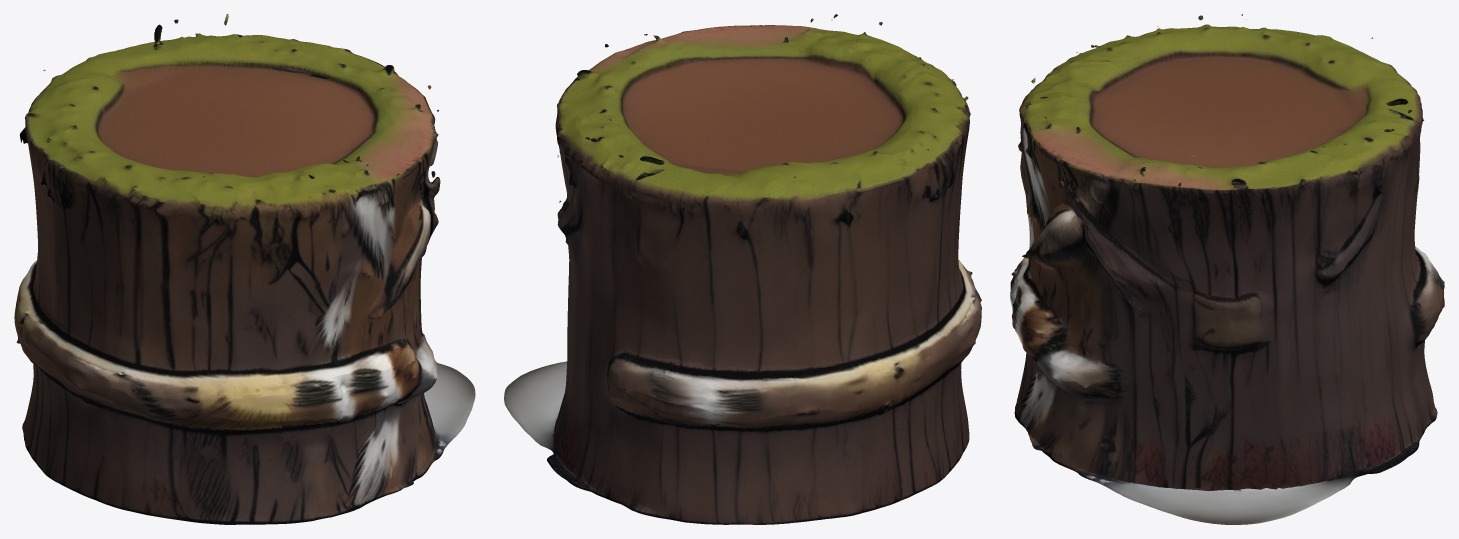
File: catalog-material-3.glb
3 views of the same model, side by side, from view 1: azimuth 30°, elevation 25°; view 2: azimuth 150°, elevation 25°; view 3: azimuth 270°, elevation 25° (orthographic). The views are drawn at different scales.
Parts seen in each view (by area): view 1: tmpxdy7dv3r.ply; view 2: tmpxdy7dv3r.ply; view 3: tmpxdy7dv3r.ply.
Boxes of the visible parts, x1,y1,x2,y2 form: tmpxdy7dv3r.ply: (14,14,475,524); tmpxdy7dv3r.ply: (504,14,981,524); tmpxdy7dv3r.ply: (1010,14,1444,524).
Bounding box in the file's own units: 1.95 × 1.5 × 1.81.
Materials: 1 (1 with a texture image).
